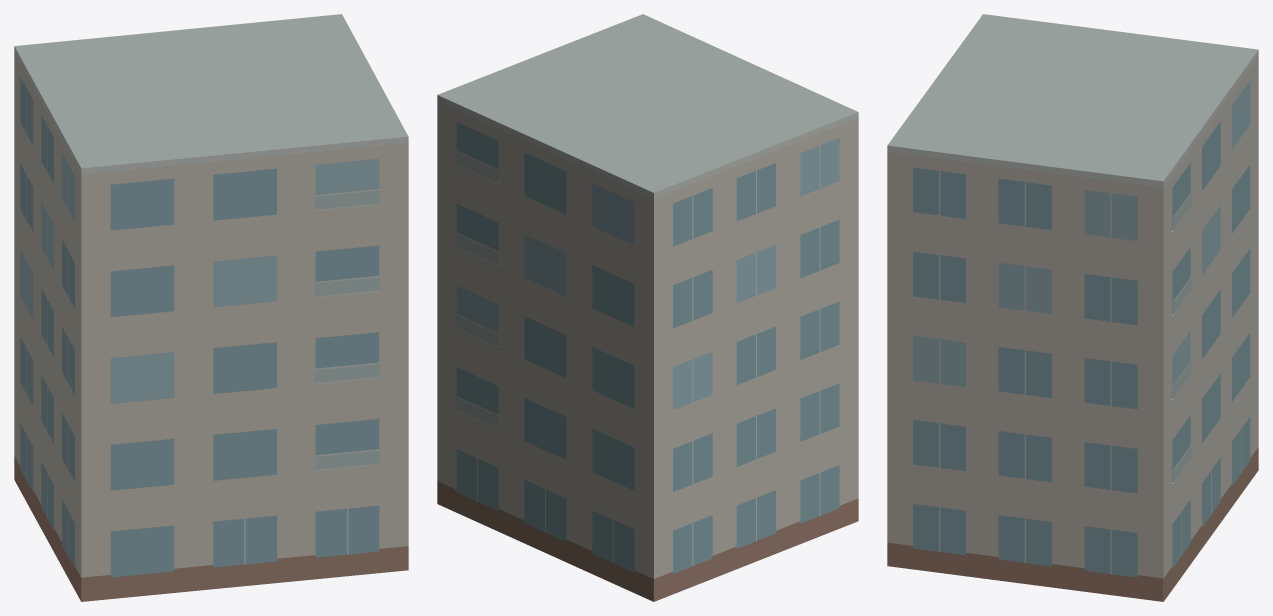
File: survey-upis-32930902.glb
3 renders of one model, left to right at view 1: azimuth 30°, elevation 25°; view 2: azimuth 150°, elevation 25°; view 3: azimuth 270°, elevation 25°, orthographic. The views are drawn at different scales.
Parts seen in each view (by area): view 1: survey-upis-32930902.tmp; view 2: survey-upis-32930902.tmp; view 3: survey-upis-32930902.tmp.
Boxes of the visible parts, x1=… form: survey-upis-32930902.tmp: x1=14, y1=14, x2=408, y2=601; survey-upis-32930902.tmp: x1=437, y1=14, x2=858, y2=601; survey-upis-32930902.tmp: x1=887, y1=14, x2=1258, y2=601.
Size of the model in its own units: 14.18 by 16.6 by 13.3.
